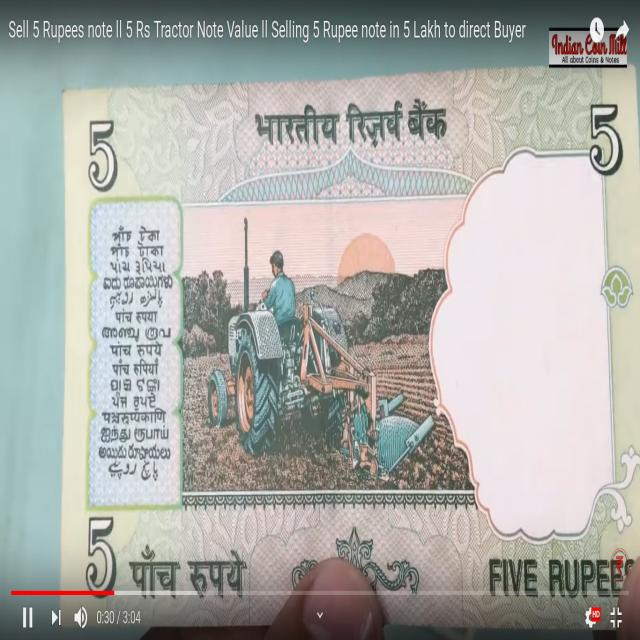5IndianRupees: (62, 88, 640, 585)
